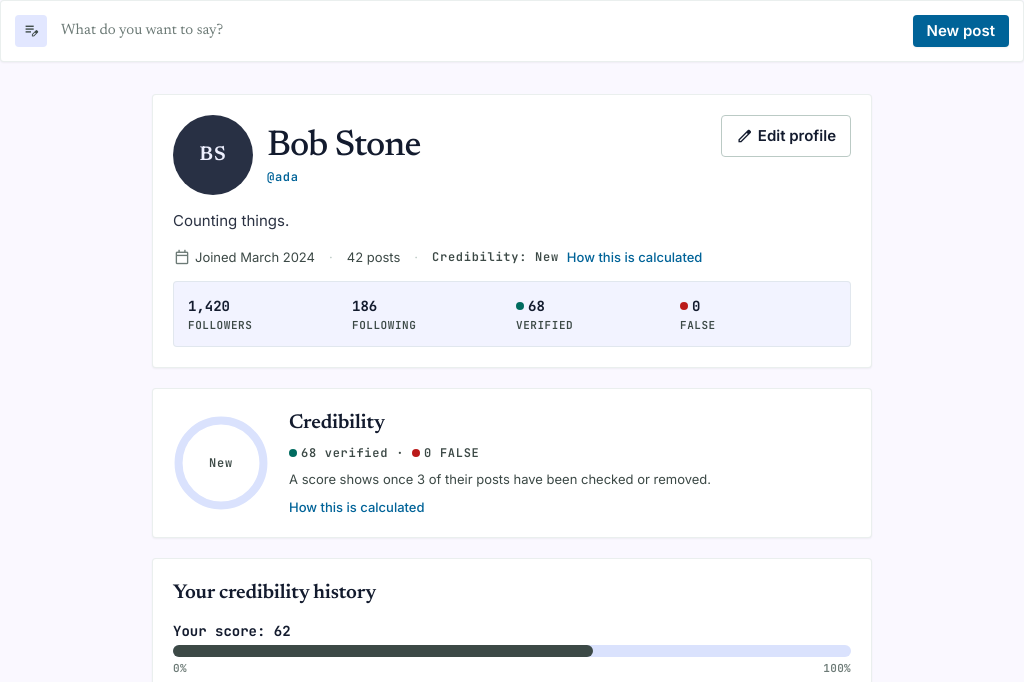
Test: ProfilePage: your own new post › is added at the top of your own profile
Expected: the link "Edit profile" is shown, [721,115,851,157]
Click the button "What do you want to say? New post": point(31, 31) [15,15,1009,47]
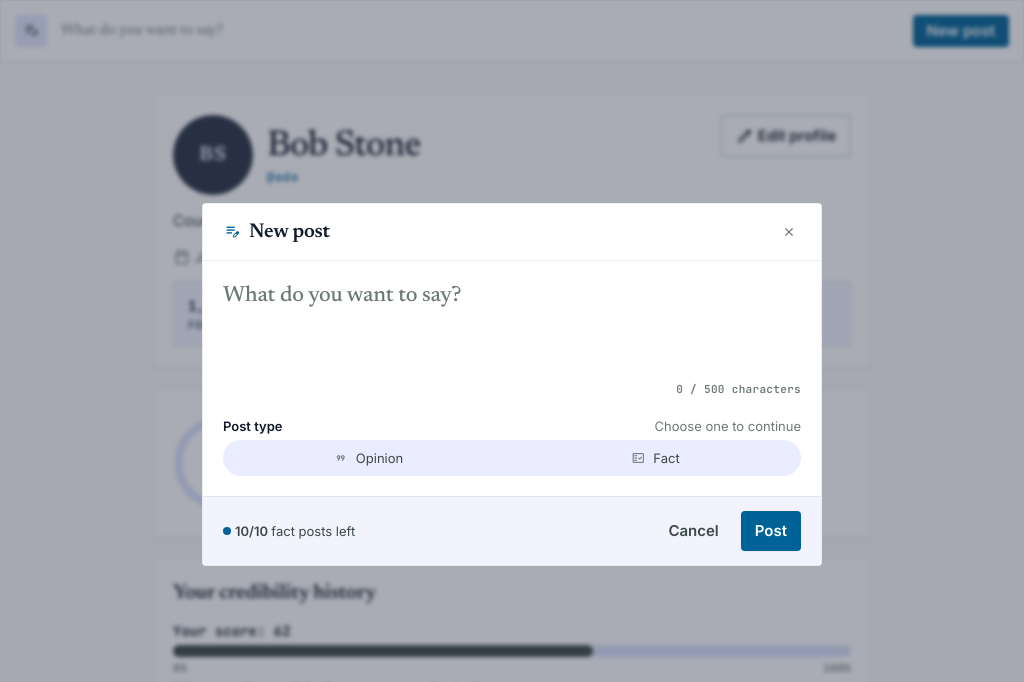
Click the radio button labelled "Opinion": point(368, 458) [227,444,510,472]
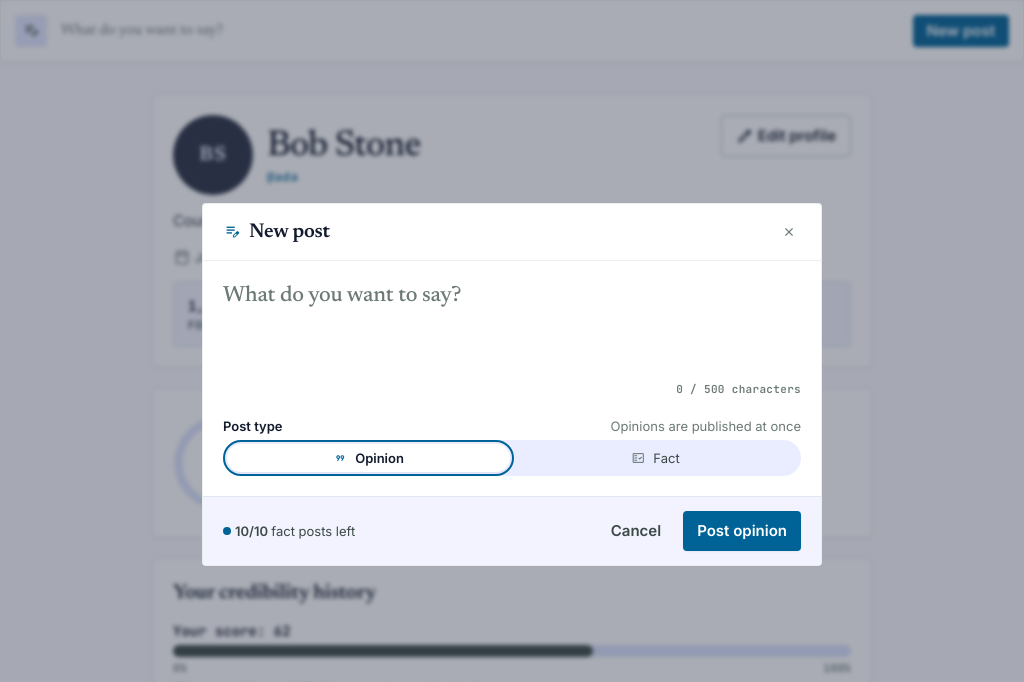
In the text box named "Post text": point(512, 326) [223,280,801,370], type "Brand new"
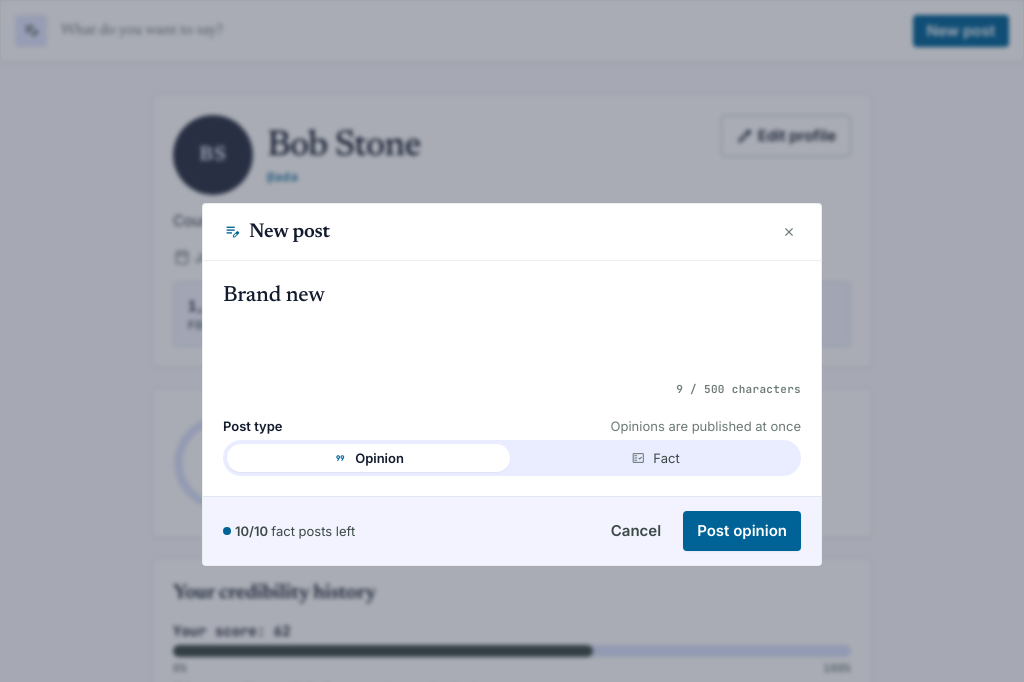
Click the button "Post opinion": point(742, 530) [683,510,801,550]
(page scrolled)
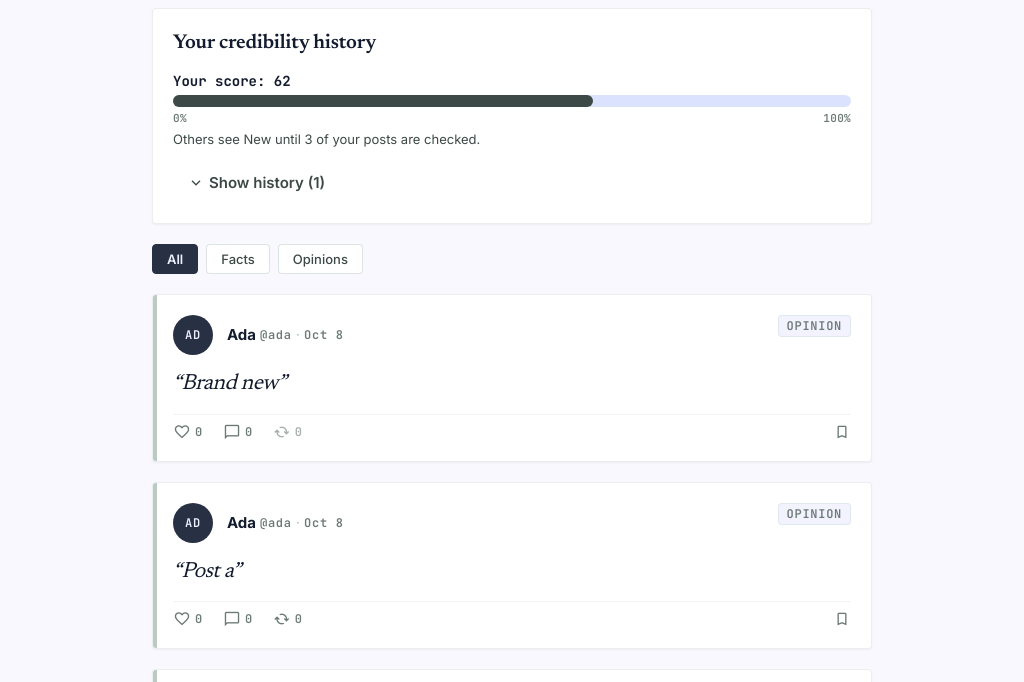
Expected: the link "“Brand new”" is shown, [173,373,286,395]
